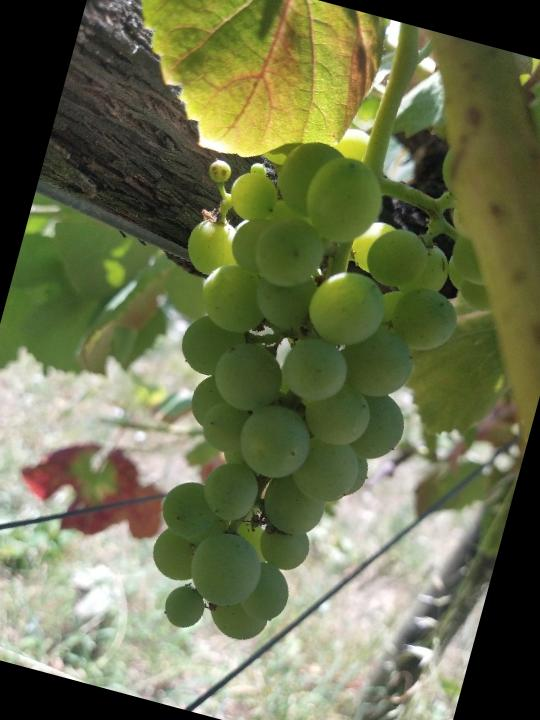grape: (90, 96, 525, 683)
